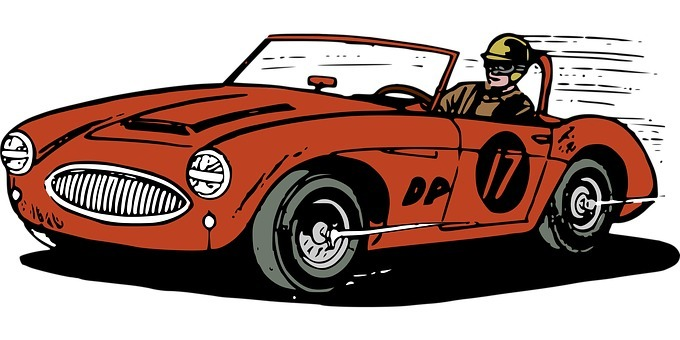car: (3, 16, 659, 299)
person: (433, 32, 545, 124)
